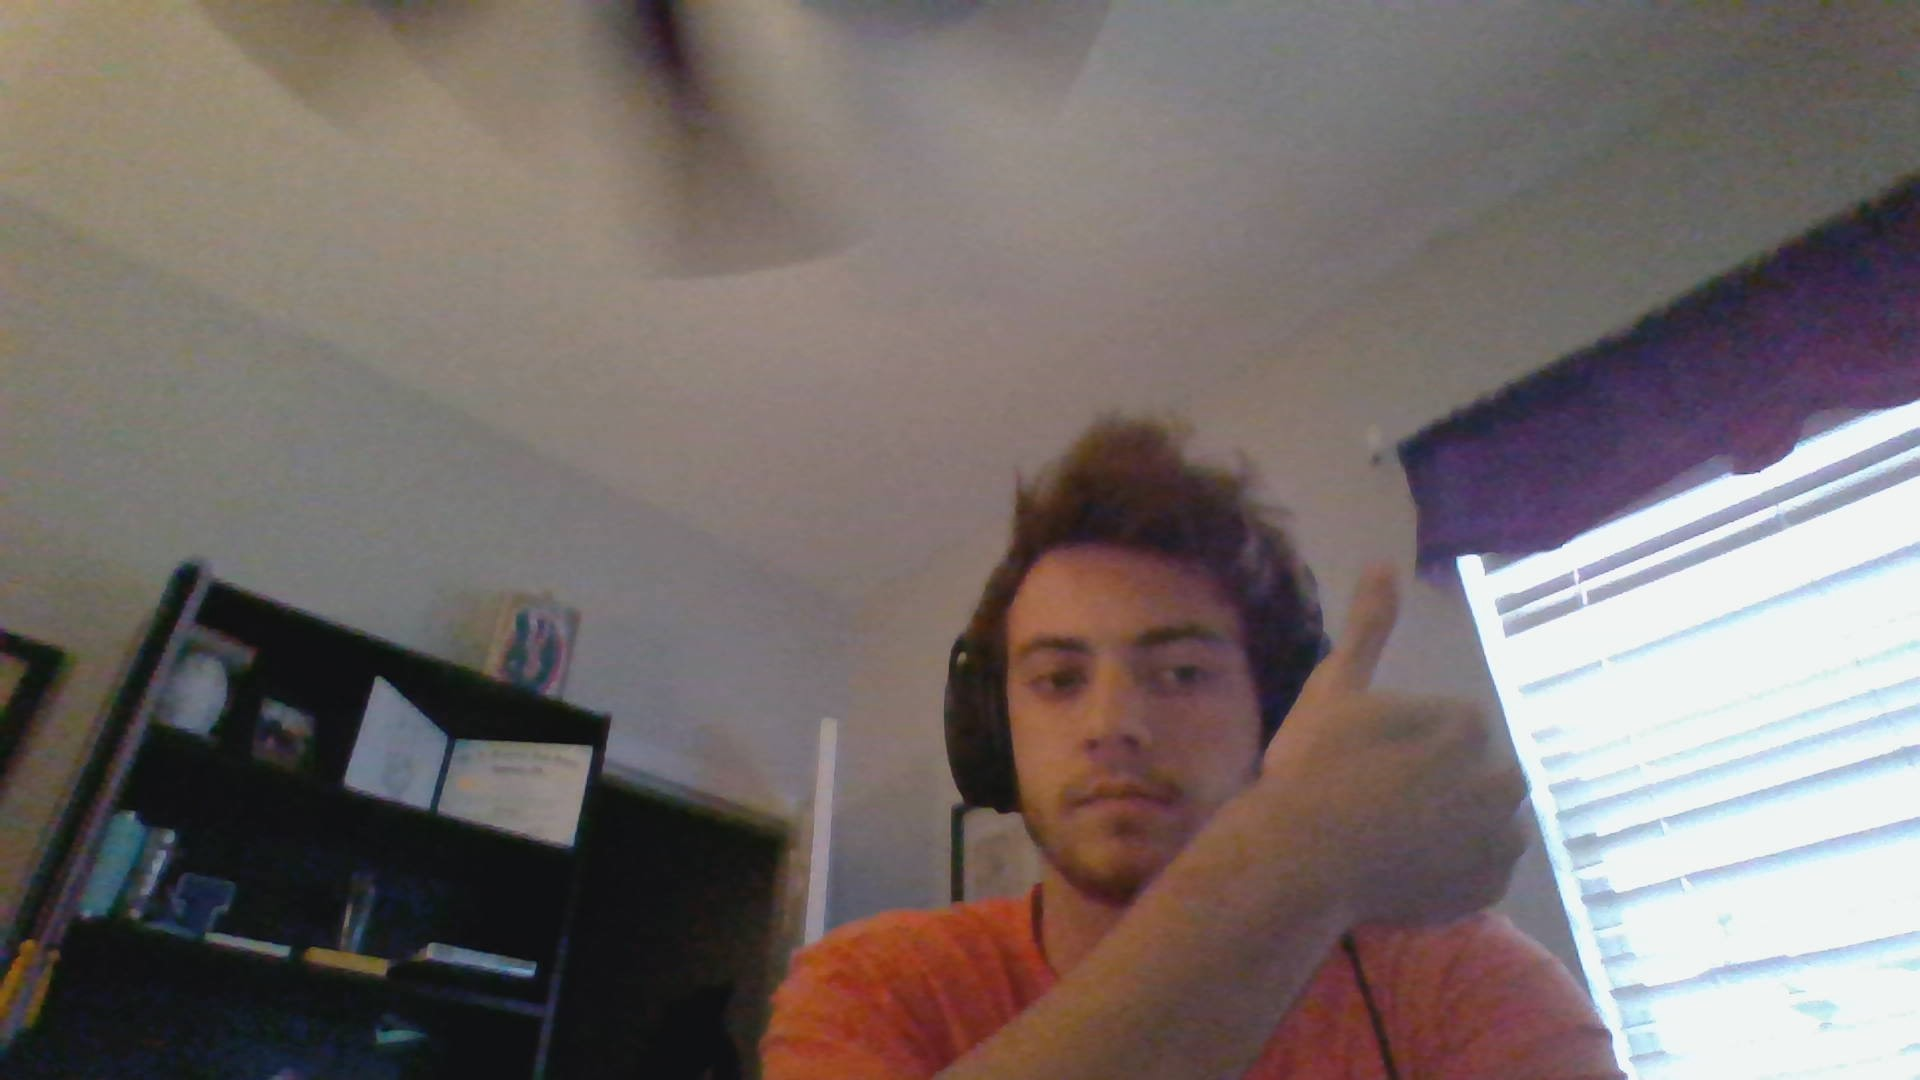Right Thumb Up: (1249, 546, 1593, 935)
